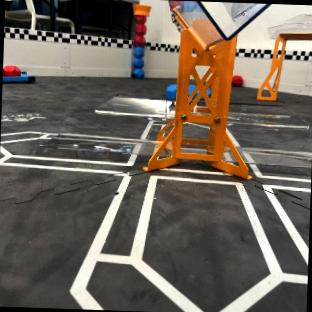Goal: (143, 0, 270, 179), (257, 15, 312, 99)
V5_BLUE: (133, 46, 144, 77)
